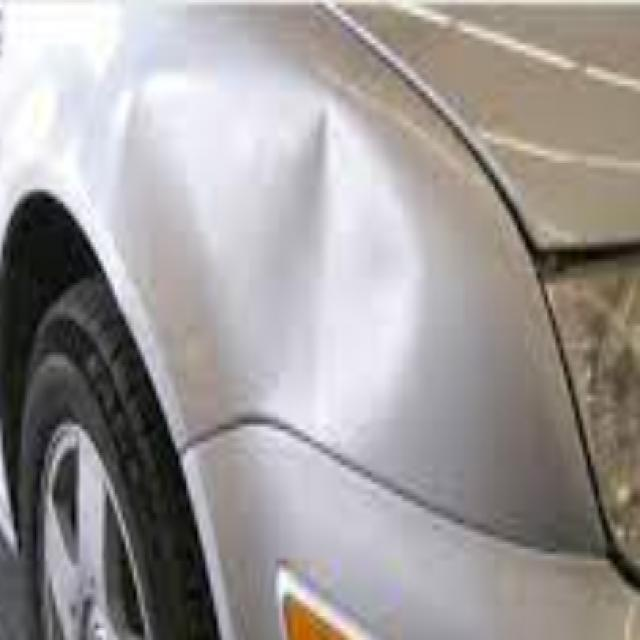dents: (199, 111, 429, 442)
